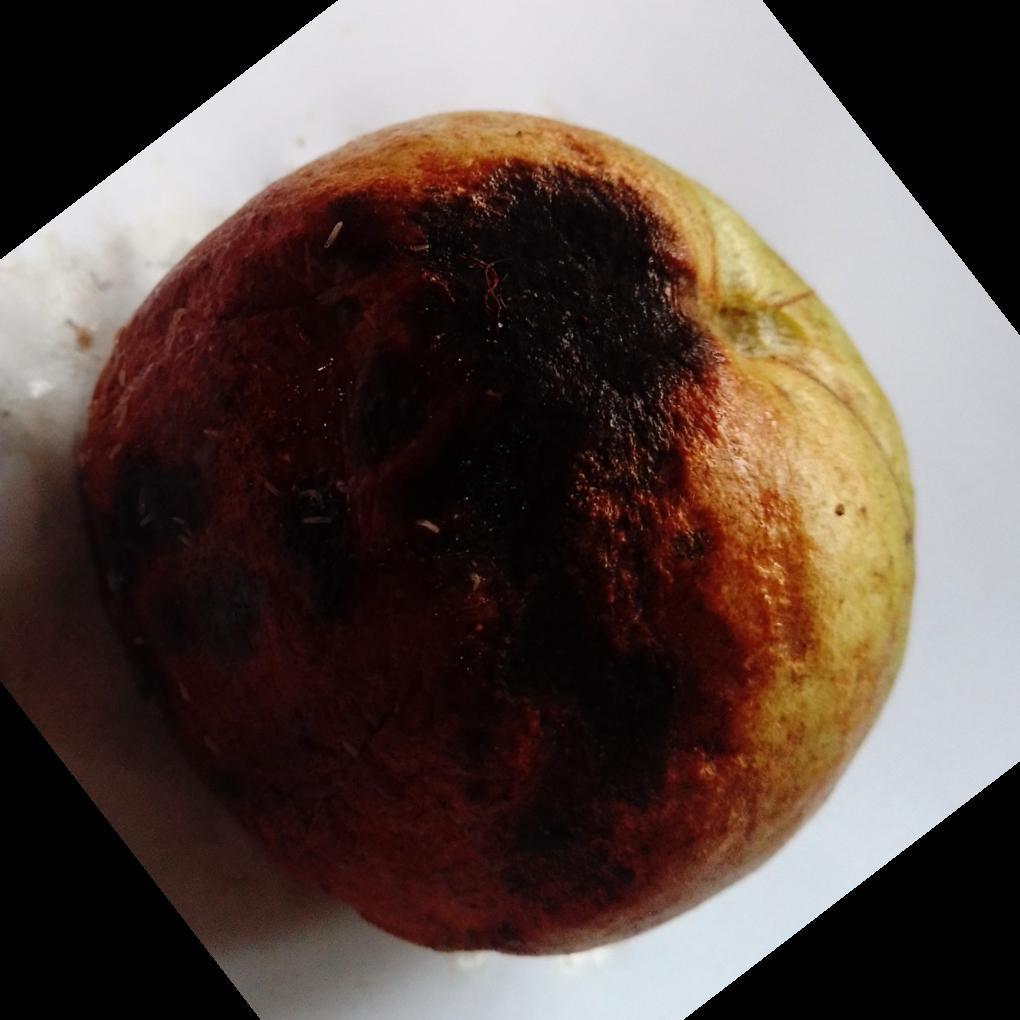FreshOrange: (72, 110, 918, 961)
